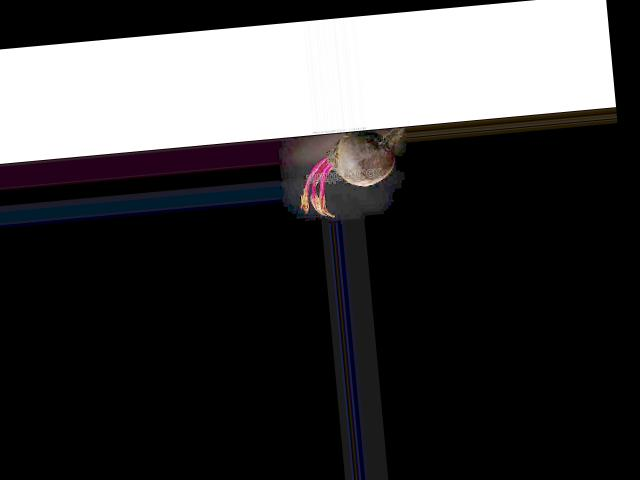beet: (294, 126, 414, 219)
